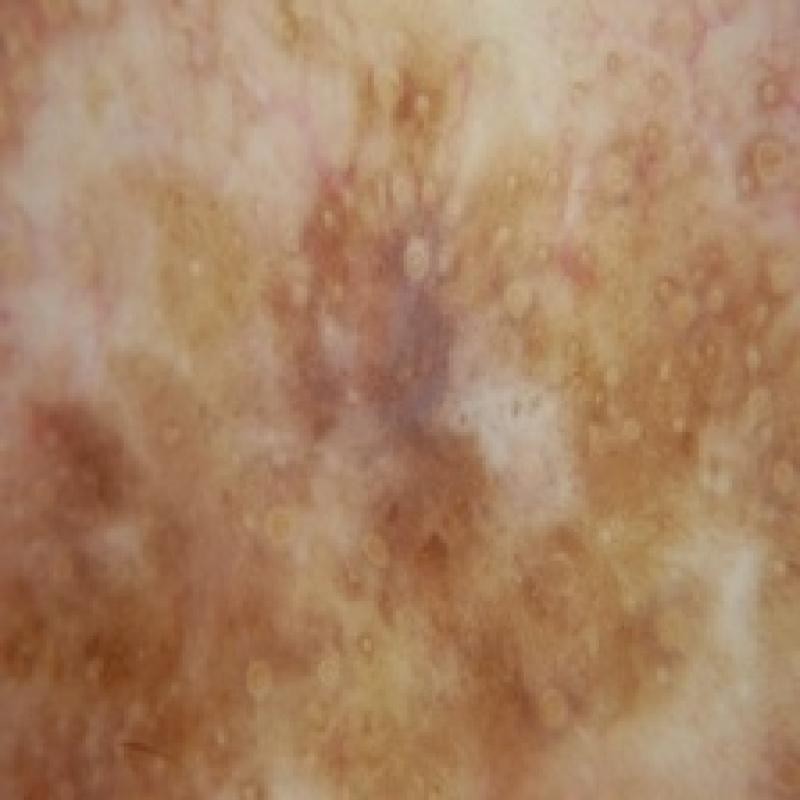malignant: (4, 3, 800, 800)
